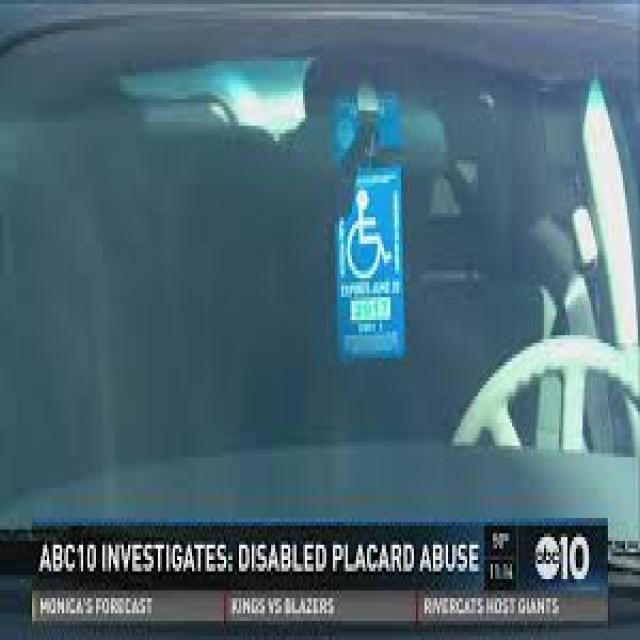symbol_of_access: (346, 192, 394, 278)
